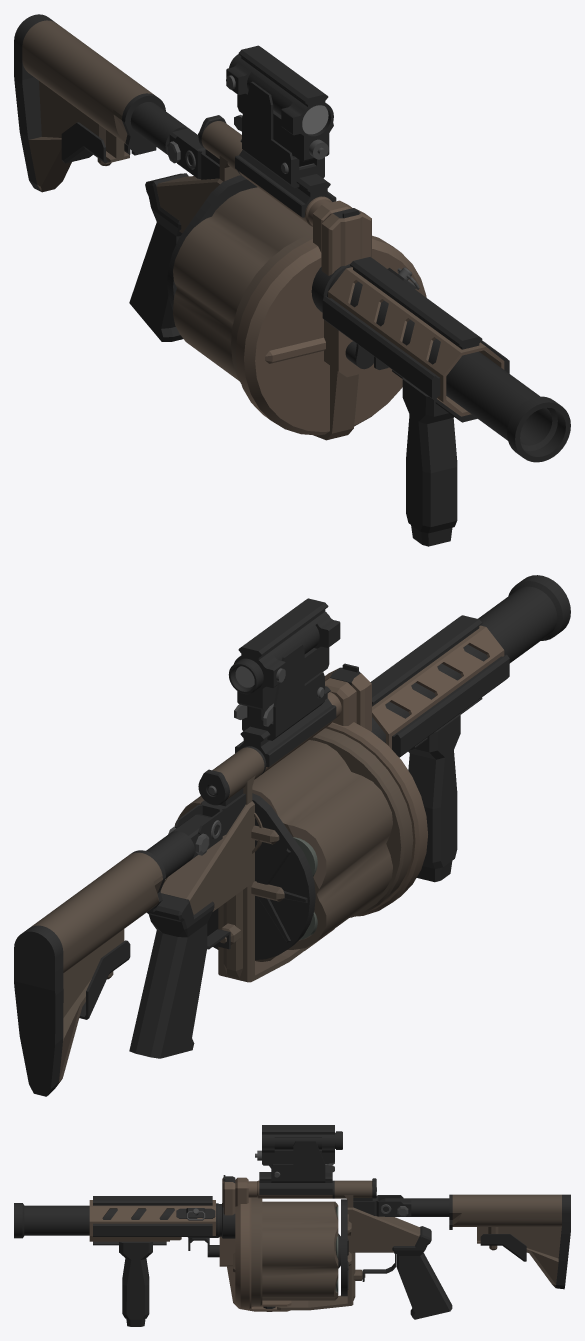
File: Nader's Grenade Launcher.fbx
3 views of the same model, one above another, from view 1: azimuth 30°, elevation 25°; view 2: azimuth 150°, elevation 25°; view 3: azimuth 270°, elevation 25° (orthographic). The views are drawn at different scales.
Visible parts, largest first — view 1: 立方体.005, 立方体.007, GL1.001, 立方体.004, 立方体; view 2: GL1.001, 立方体.005, 立方体.007, 立方体.004, 立方体; view 3: 立方体.005, GL1.001, 立方体.004, 立方体.007, 立方体, 立方体.006.
Part boxes in pixels (x1=…): 立方体.005: x1=235, y1=139, x2=570, y2=546; 立方体.007: x1=14, y1=14, x2=205, y2=192; GL1.001: x1=129, y1=81, x2=324, y2=341; 立方体.004: x1=173, y1=187, x2=312, y2=383; 立方体: x1=226, y1=45, x2=333, y2=166; GL1.001: x1=129, y1=644, x2=324, y2=1058; 立方体.005: x1=235, y1=575, x2=570, y2=950; 立方体.007: x1=14, y1=814, x2=211, y2=1096; 立方体.004: x1=174, y1=728, x2=413, y2=961; 立方体: x1=228, y1=598, x2=340, y2=726; 立方体.005: x1=14, y1=1172, x2=334, y2=1326; GL1.001: x1=271, y1=1141, x2=452, y2=1319; 立方体.004: x1=251, y1=1197, x2=340, y2=1305; 立方体.007: x1=380, y1=1194, x2=570, y2=1289; 立方体: x1=255, y1=1125, x2=342, y2=1172; 立方体.006: x1=188, y1=1238, x2=219, y2=1257.
Bounding box in the file's own units: 19.24 × 35.68 × 91.97.
